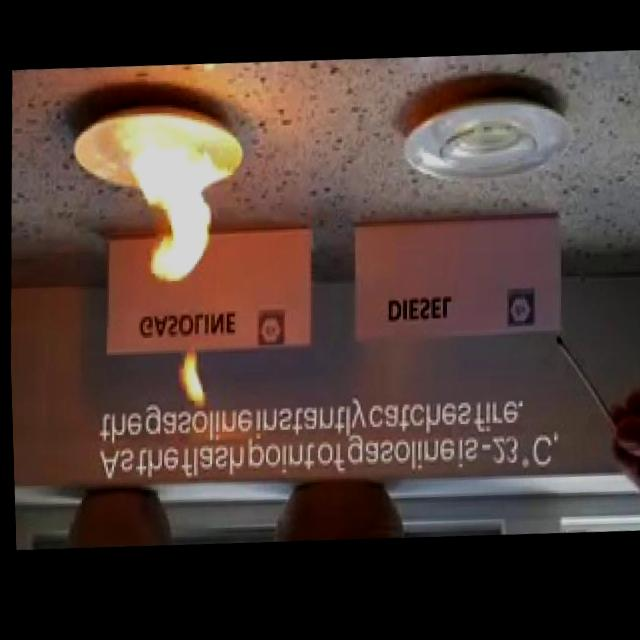helmet: (101, 122, 219, 290), (167, 345, 211, 413)
